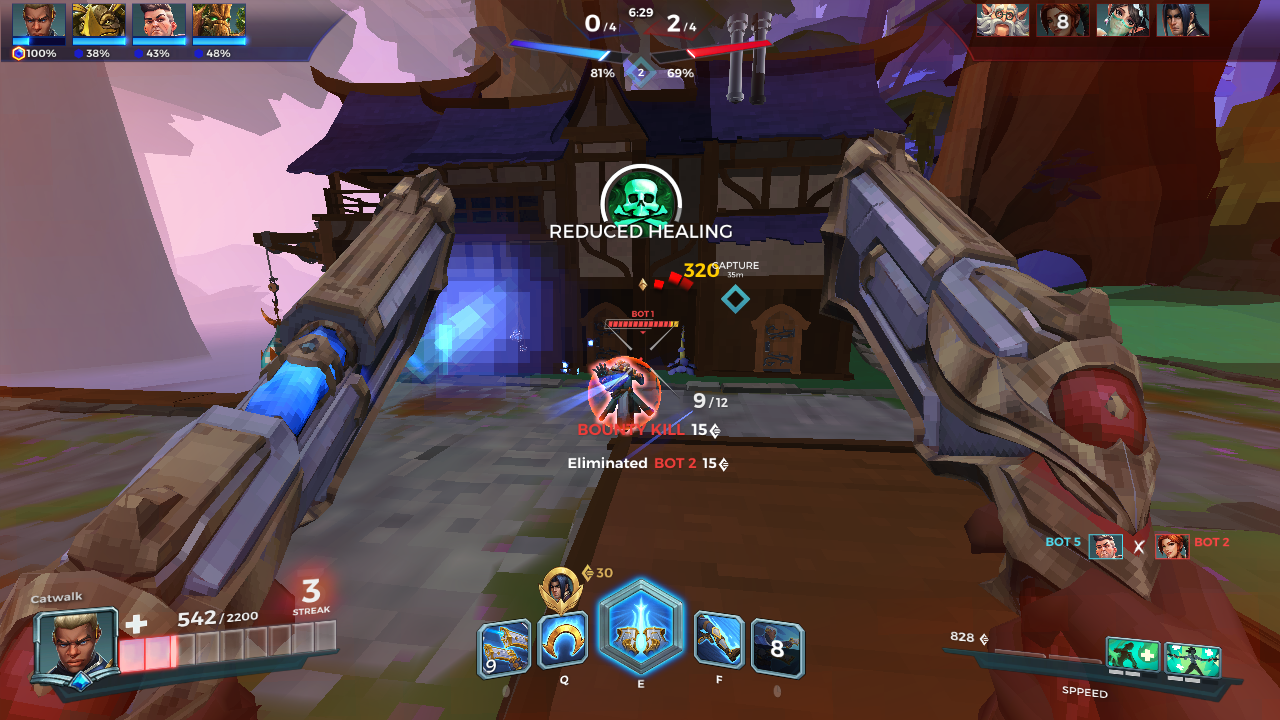model: (596, 359, 655, 435)
